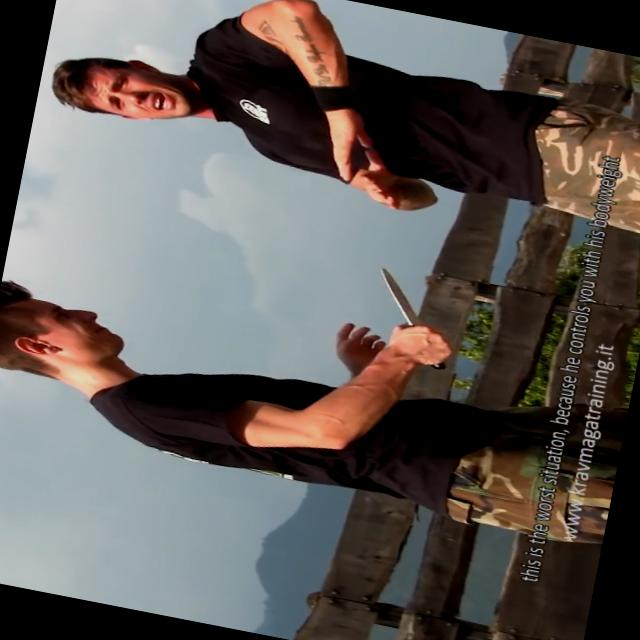knife: (354, 260, 474, 376)
